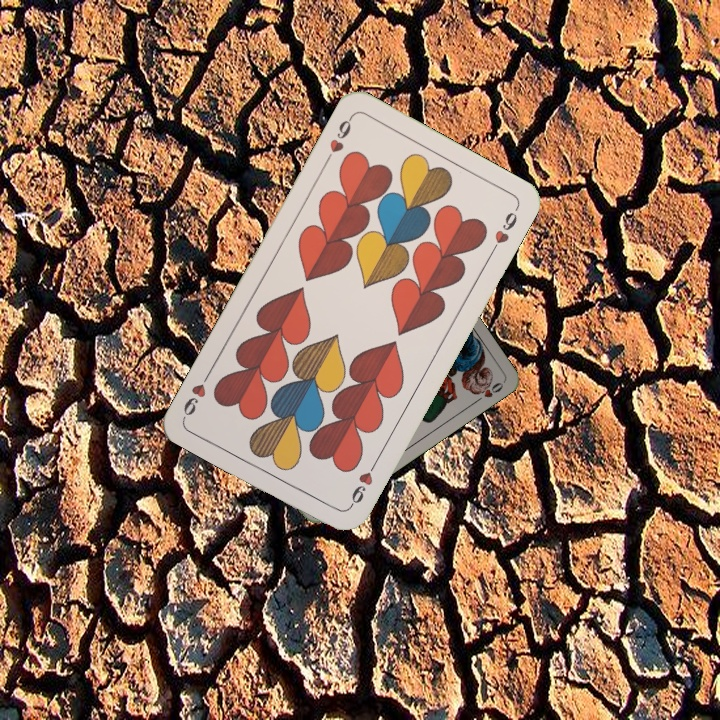H9: (320, 112, 356, 166), (345, 457, 380, 511)
